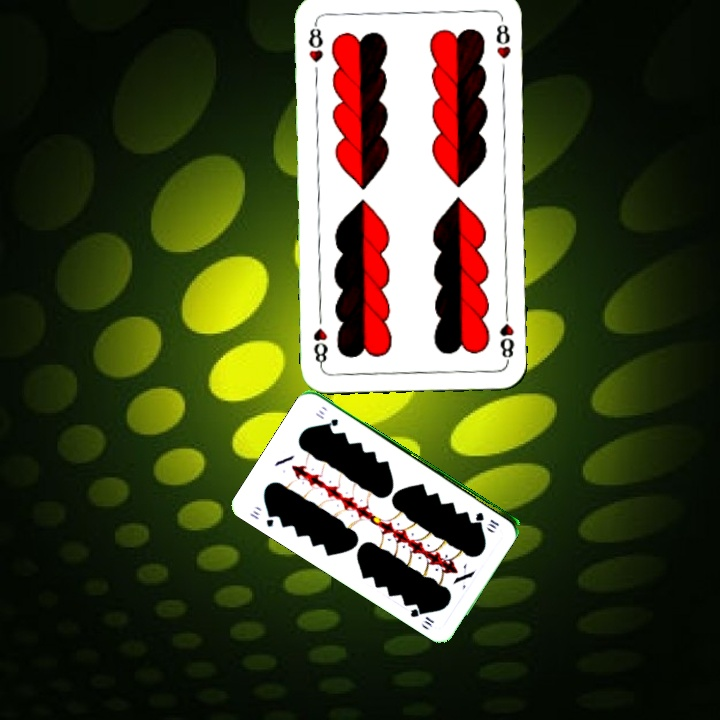G10: (246, 506, 279, 530), (472, 508, 502, 532)
H8: (496, 306, 517, 365), (304, 19, 326, 65)
